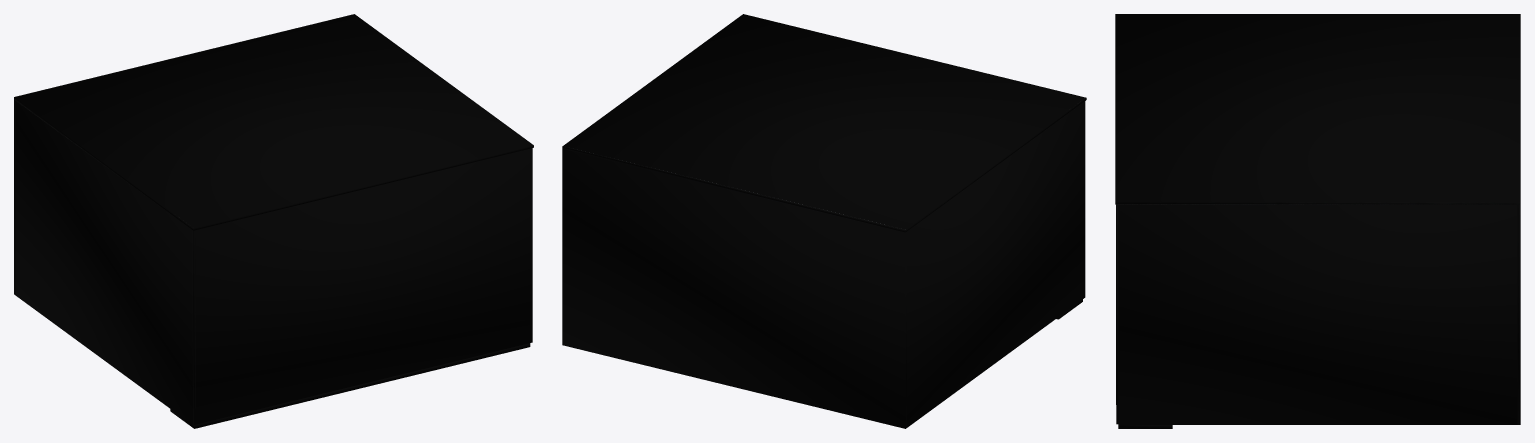
Rendered from hall_imax.glb.
The picture shows the model from 3 angles, left to right: view 1: azimuth 30°, elevation 25°; view 2: azimuth 150°, elevation 25°; view 3: azimuth 270°, elevation 25°; orthographic projection. The views are drawn at different scales.
Parts seen in each view (by area): view 1: grand_shell, grand_ceiling, grand_floor; view 2: grand_shell, grand_ceiling; view 3: grand_shell, grand_ceiling.
Part boxes in pixels (box(x1,y1,x2,y2)): grand_shell: box(14, 99, 532, 424); grand_ceiling: box(14, 14, 533, 230); grand_floor: box(170, 343, 530, 428); grand_shell: box(562, 101, 1085, 428); grand_ceiling: box(562, 14, 1086, 232); grand_shell: box(1116, 204, 1520, 424); grand_ceiling: box(1115, 14, 1520, 204).
Bounding box in the file's own units: 44.6 × 25.3 × 40.7.
5 materials, 5 textured.
